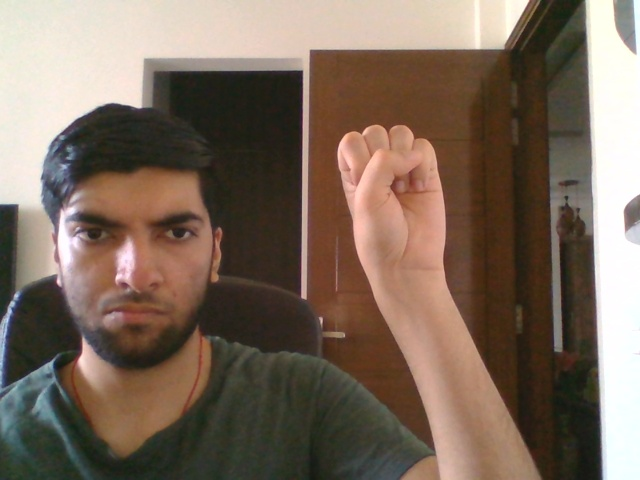LetterE: (335, 124, 447, 269)
